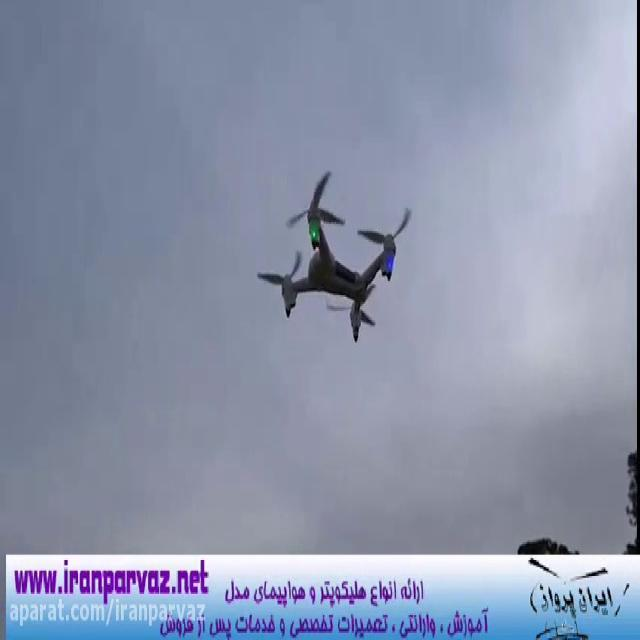drone: (252, 166, 416, 347)
